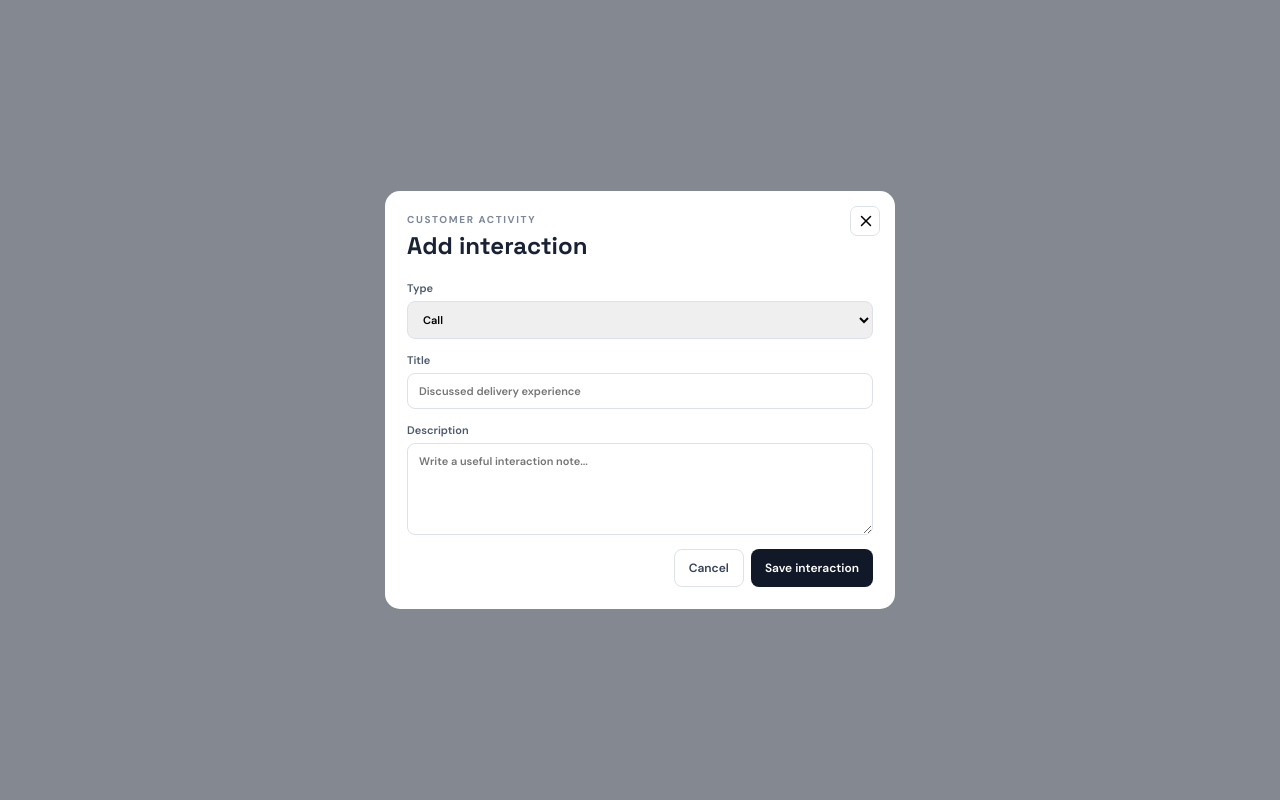
Test: InteractionModal Component › validates empty description
The image size is (1280, 800).
Type "Valid Title" into the field with placeholder "Discussed delivery experience" at (640, 391), box [407,373,873,409]
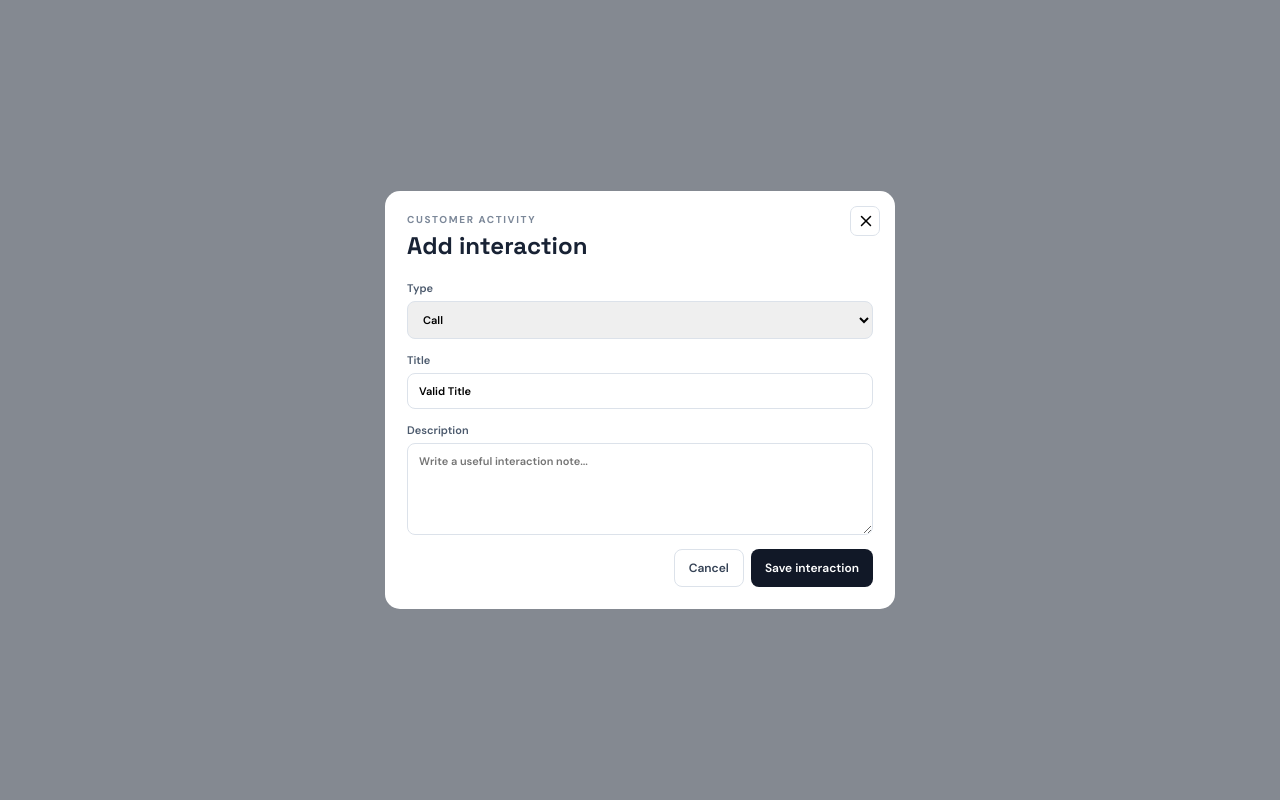
Click the button "Save interaction" at (812, 568), box [751,549,873,587]
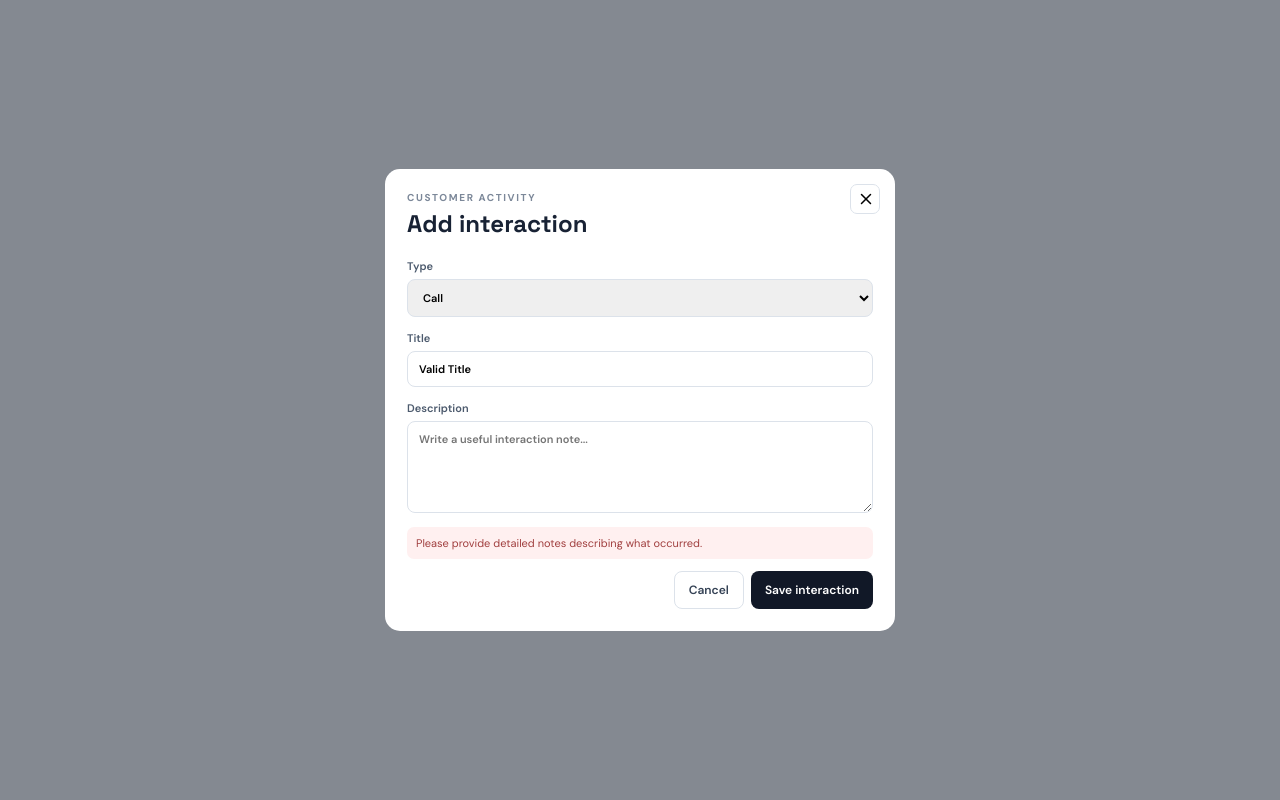
Result: the text "Please provide detailed notes describing what occurred." is shown at [407,527,873,559]
